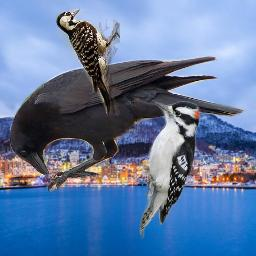Crow: (9, 56, 246, 194)
Woodpecker: (139, 95, 206, 239), (56, 9, 120, 117)
